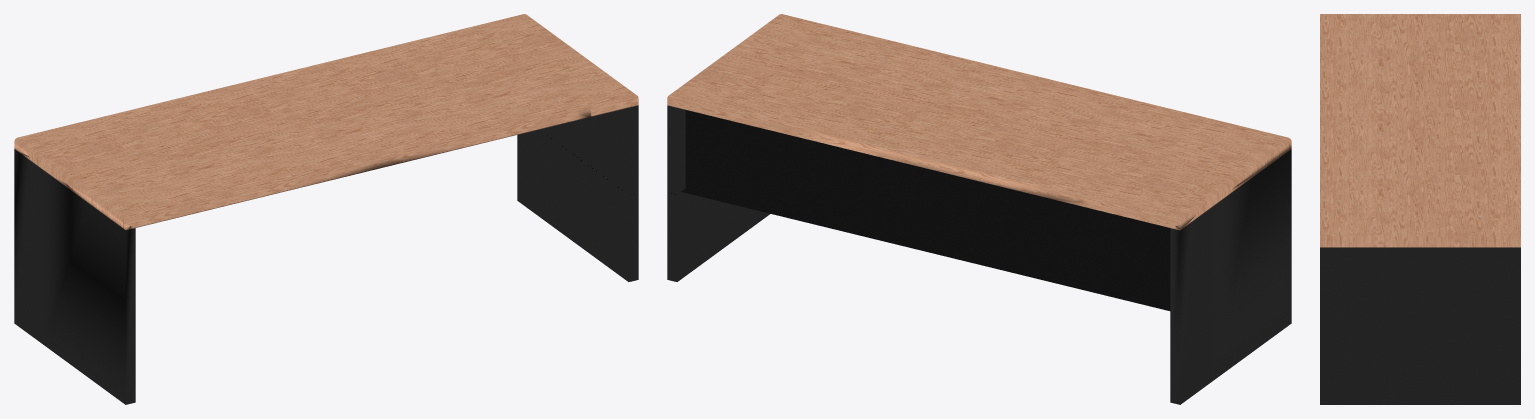
File: Desk.obj
3 renders of one model, left to right at view 1: azimuth 30°, elevation 25°; view 2: azimuth 150°, elevation 25°; view 3: azimuth 270°, elevation 25°, orthographic. The views are drawn at different scales.
Visible parts, largest first — view 1: Desk; view 2: Desk; view 3: Desk.
Part boxes in pixels (x1,y1,x2,y2): Desk: (14,14,638,404); Desk: (667,14,1291,404); Desk: (1320,14,1520,404).
Size of the model in its own units: 400 by 138 by 151.
1 material, 1 textured.
